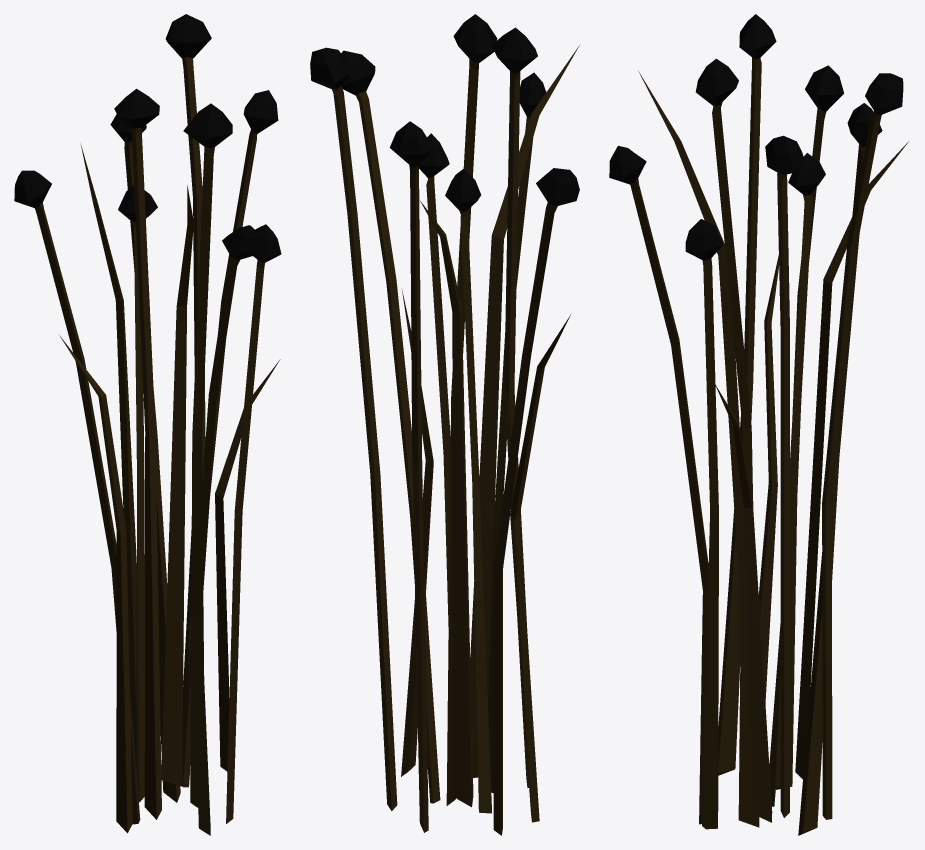
Rendered from flowers04.fbx.
The picture shows the model from 3 angles, left to right: view 1: azimuth 30°, elevation 25°; view 2: azimuth 150°, elevation 25°; view 3: azimuth 270°, elevation 25°; orthographic projection. The views are drawn at different scales.
Parts seen in each view (by area): view 1: Cylinder; view 2: Cylinder; view 3: Cylinder.
Part boxes in pixels (x1=…): Cylinder: x1=14, y1=14, x2=281, y2=835; Cylinder: x1=310, y1=14, x2=579, y2=835; Cylinder: x1=609, y1=14, x2=908, y2=835.
Bounding box in the file's own units: 0.1767 × 0.5183 × 0.179.
